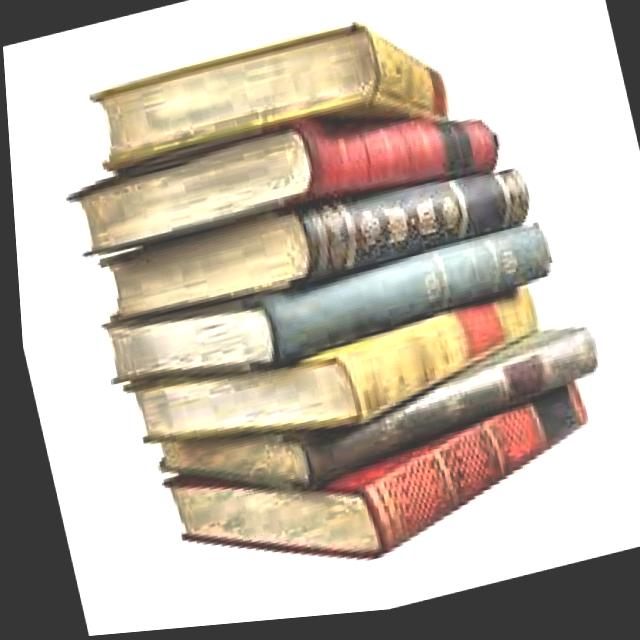Paper: (153, 382, 600, 603), (136, 327, 603, 526), (86, 218, 557, 405), (56, 86, 503, 281), (109, 287, 546, 482), (86, 157, 535, 340), (78, 8, 449, 207)
